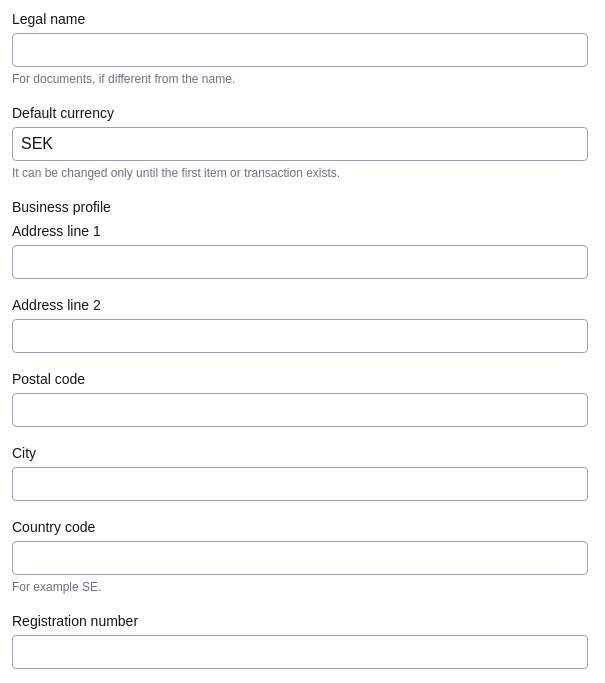
Test: saving › sends only what changed, to the organization of the scope, with no organization_id
This screenshot has width=605, height=683.
Type "Luleå" into the field labelled "City".
click(300, 484); type("Luleå")  # box [12, 467, 588, 501]
(page scrolled)
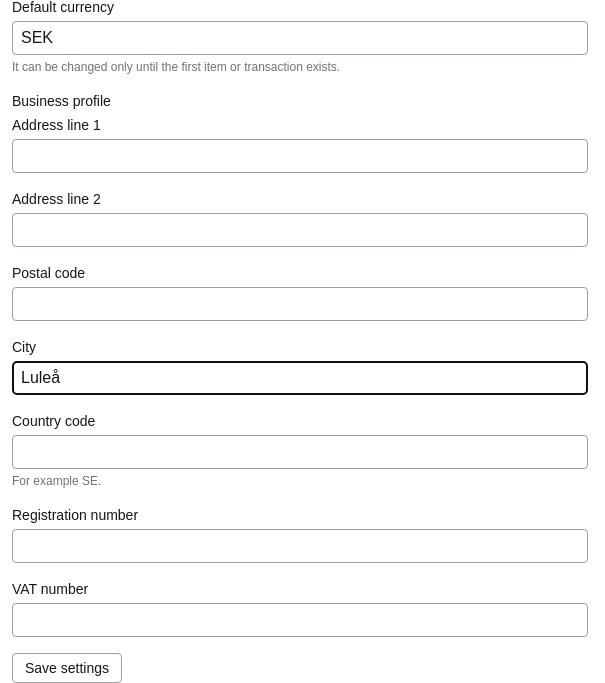
Click the button "Save settings".
click(67, 668)  # box [12, 653, 122, 682]
(page scrolled)
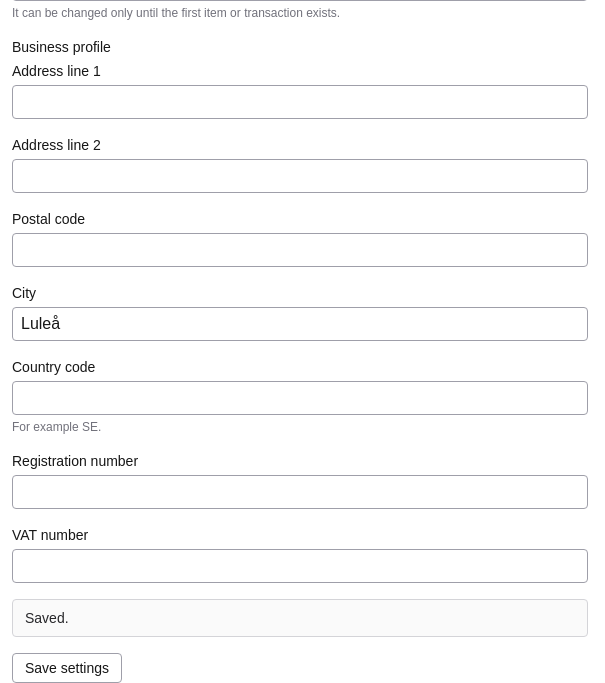
Now the message "Saved." is shown, box [12, 599, 588, 637]
